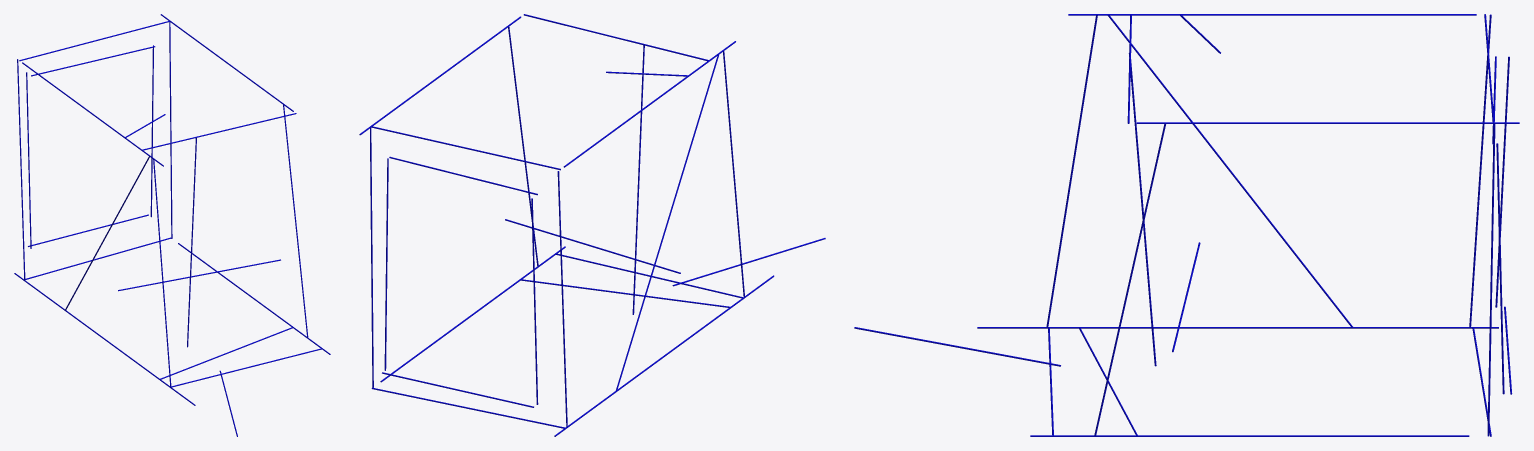
Rendered from corrected_3d_strokes.glb.
3 views of the same model, side by side, from view 1: azimuth 30°, elevation 25°; view 2: azimuth 150°, elevation 25°; view 3: azimuth 270°, elevation 25° (orthographic). The views are drawn at different scales.
Parts seen in each view (by area): view 1: world; view 2: world; view 3: world.
Boxes of the visible parts, x1=… form: world: x1=14, y1=14, x2=330, y2=436; world: x1=359, y1=14, x2=825, y2=436; world: x1=854, y1=14, x2=1519, y2=436.
Bounding box in the file's own units: 5.51 × 7.4 × 14.19.
